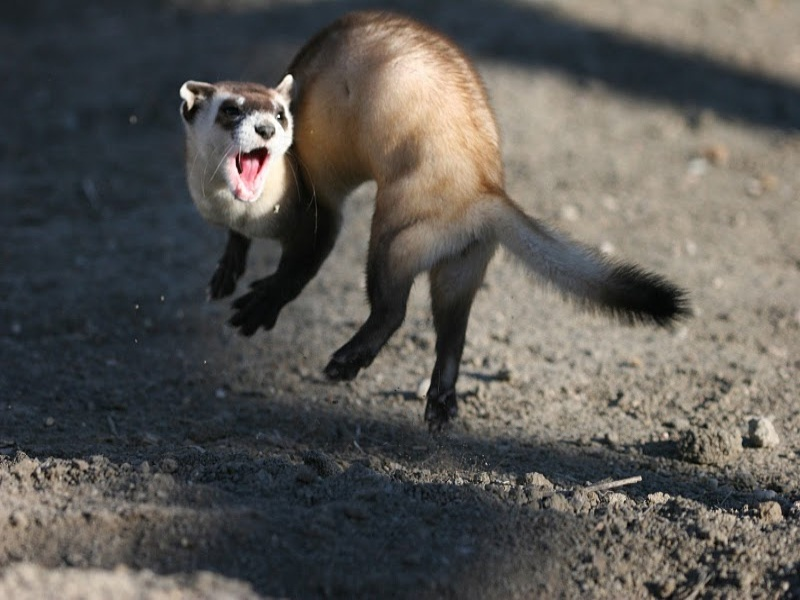minkish: (166, 9, 693, 438)
